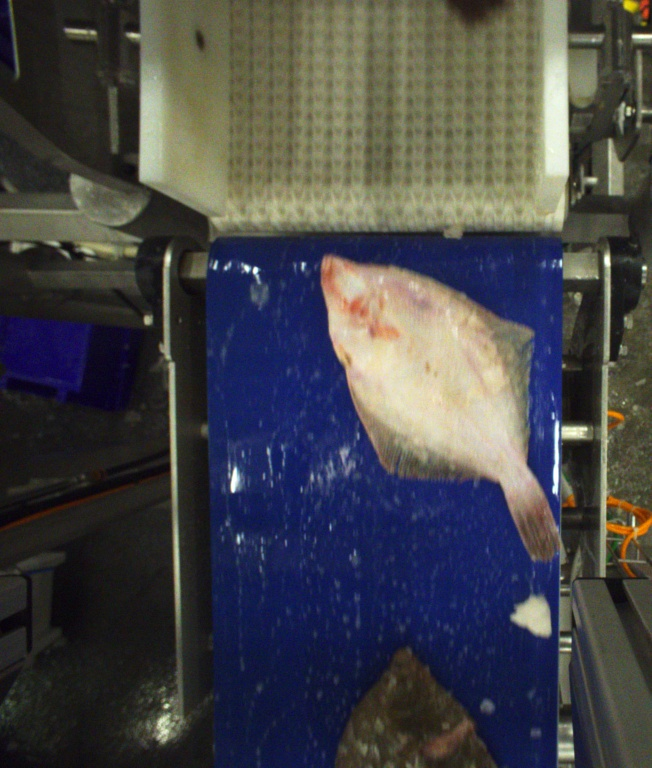PLE: (320, 254, 564, 563)
